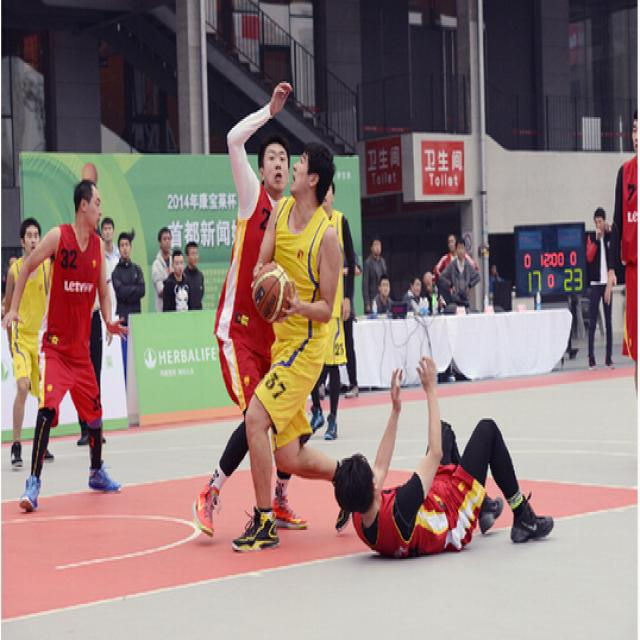10-: (0, 76, 639, 560)
down: (327, 348, 552, 566)
